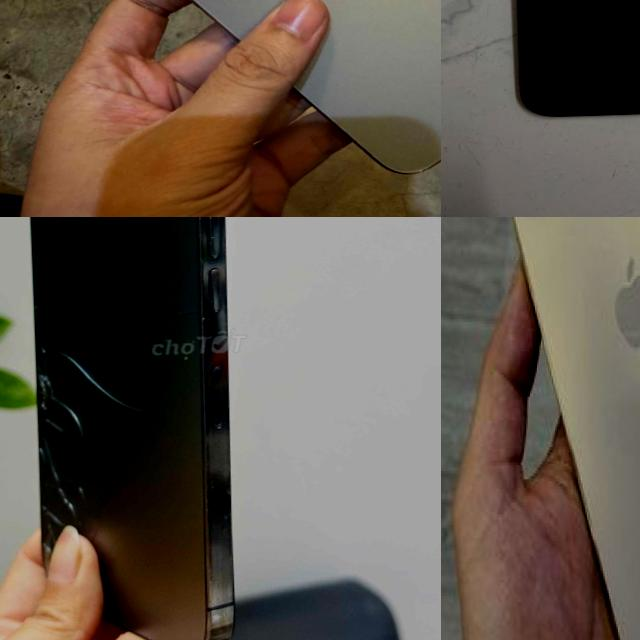gen_12_13: (11, 217, 269, 640), (475, 217, 640, 640), (500, 0, 640, 126)
gen_15: (56, 0, 441, 210)
